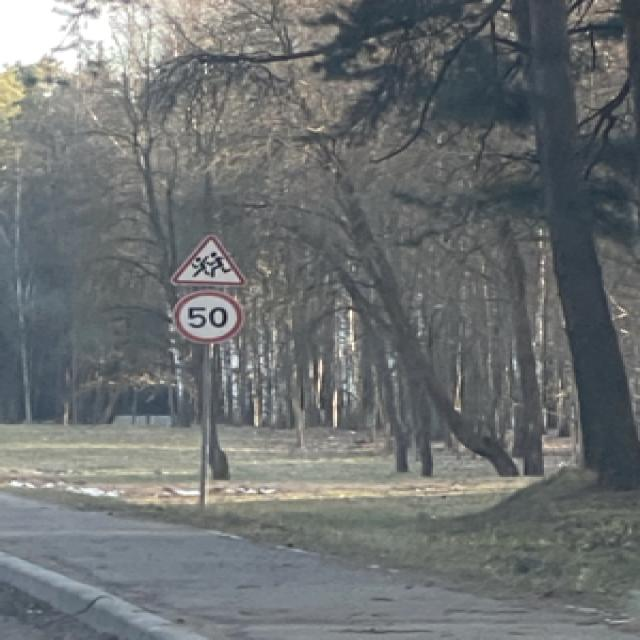speedlimit: (168, 290, 237, 340)
